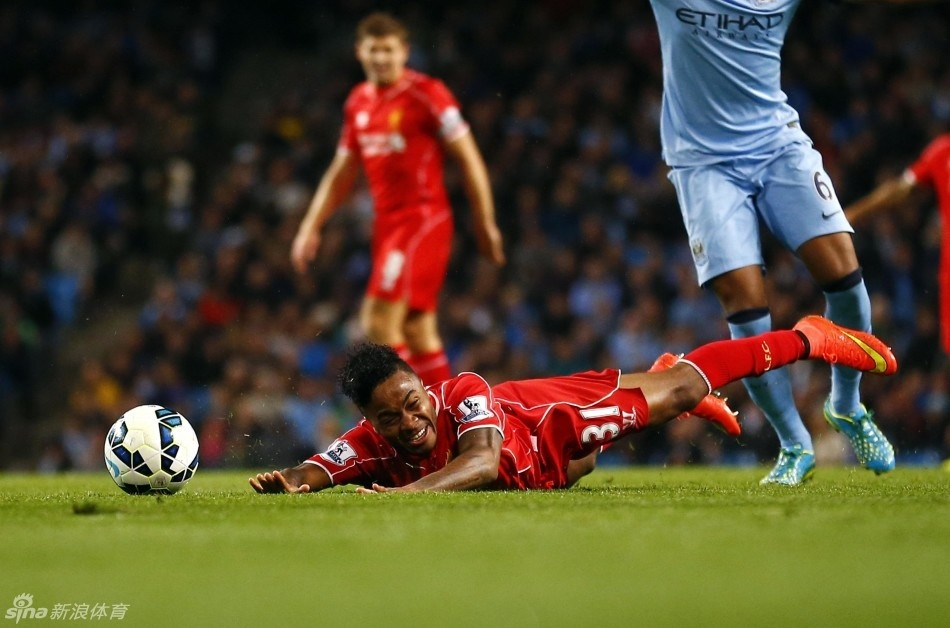falling: (266, 310, 893, 503)
